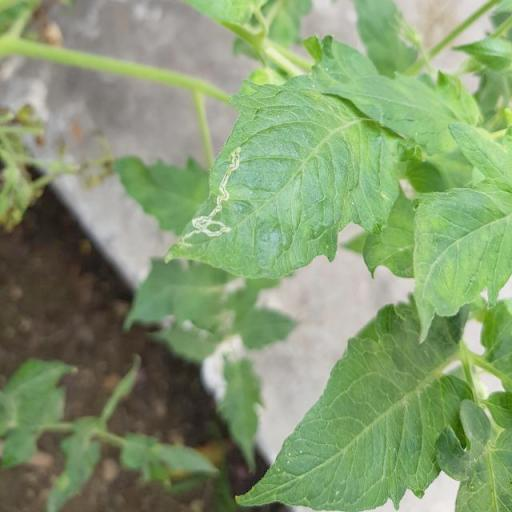Healthy: (248, 299, 474, 512)
Leaf Miner: (170, 74, 406, 282)
